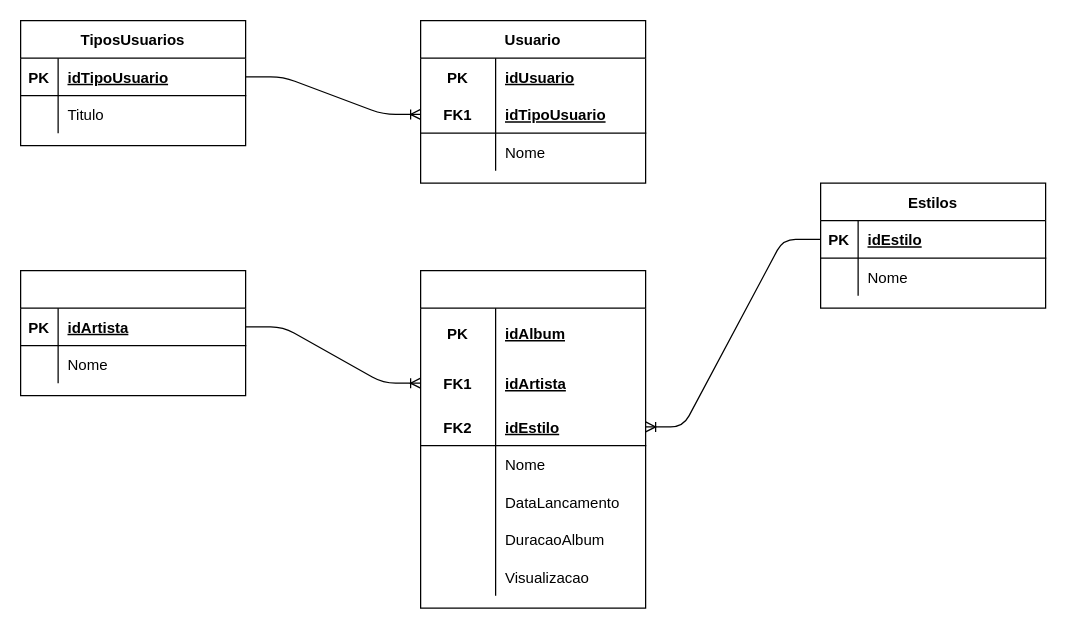
The diagram is 1066 pixels wide and 629 high, and some of its shapes have lost their labels. Each missing label, with the box of its shape:
Albuns: (419, 269, 646, 608)
Artistas: (19, 269, 246, 396)
